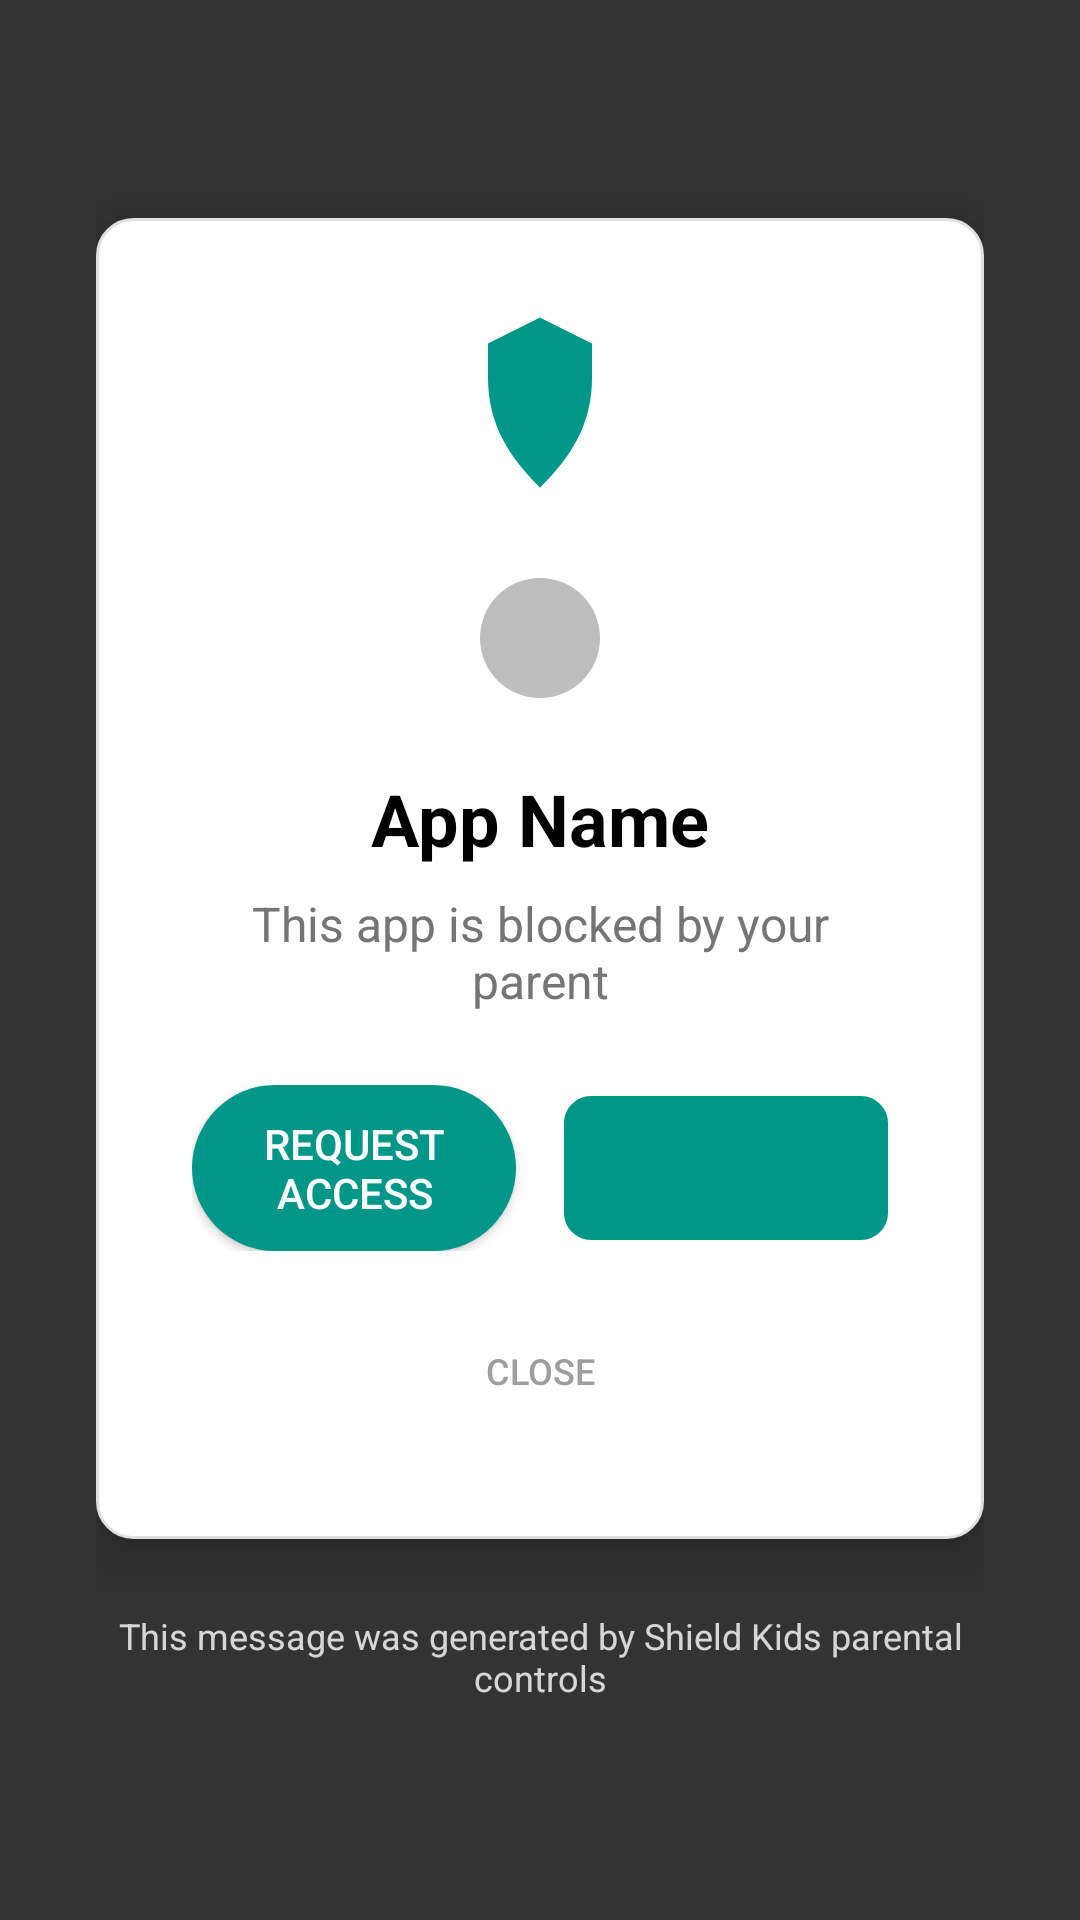

Icons on this 1080 × 1920 Android screen, each with its box as bbox(x1, y1, x2, y2):
shield: bbox(488, 317, 592, 488)
